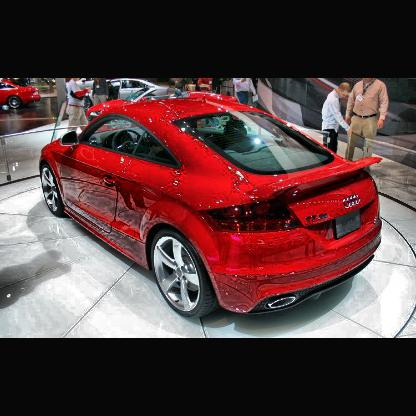Audi TT RS Coupe 2012: (39, 98, 388, 324)
